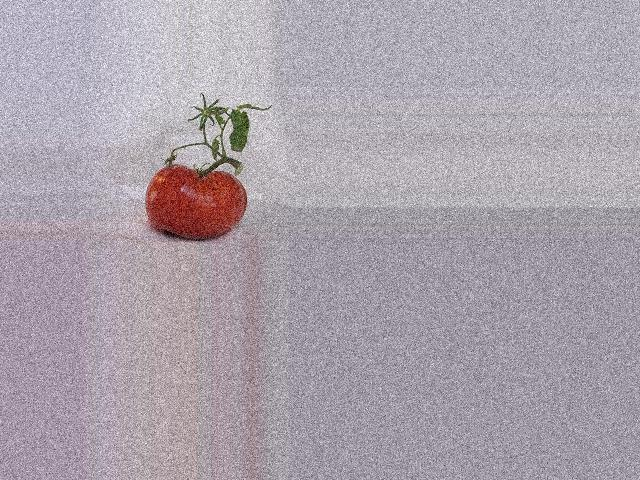tomato: (144, 164, 247, 240)
